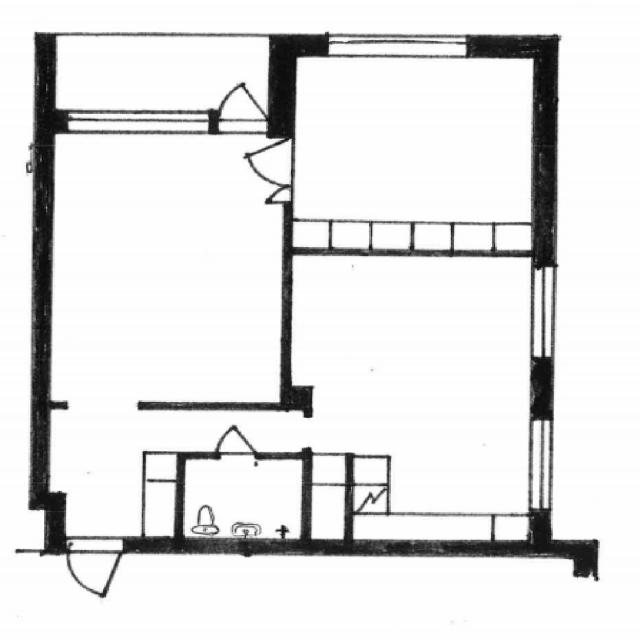door: (70, 539, 122, 602), (218, 69, 266, 135), (233, 140, 294, 186), (215, 416, 258, 460), (269, 187, 295, 201)
